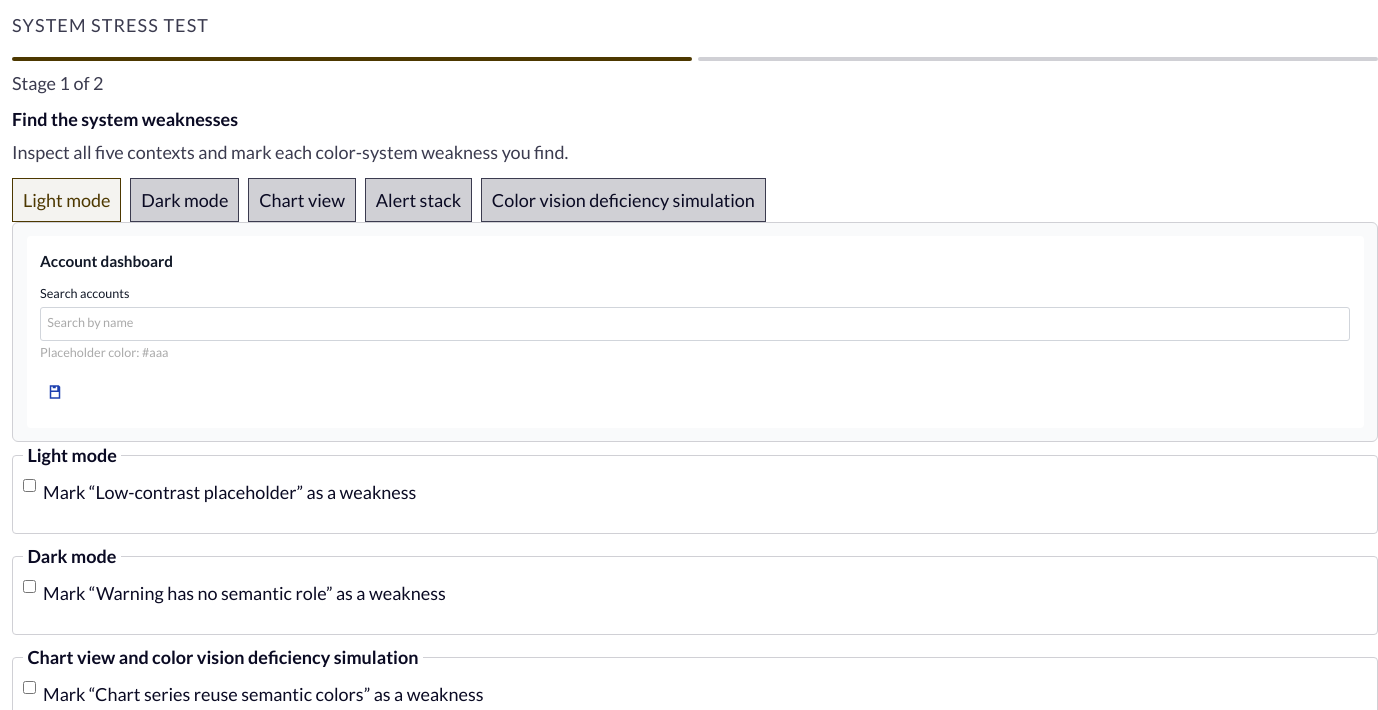
Scenario: SystemStressTestTool › provides observable previews for all five contexts
Expected: the text "Search by name" is shown, top-left (40, 307), bottom-right (1350, 341)
Expected: the text "Placeholder color: #aaa" has style "color: #aaa", top-left (40, 345), bottom-right (168, 360)
Click the button "Dark mode" at (185, 200), box top-left (130, 178), bottom-right (239, 222)
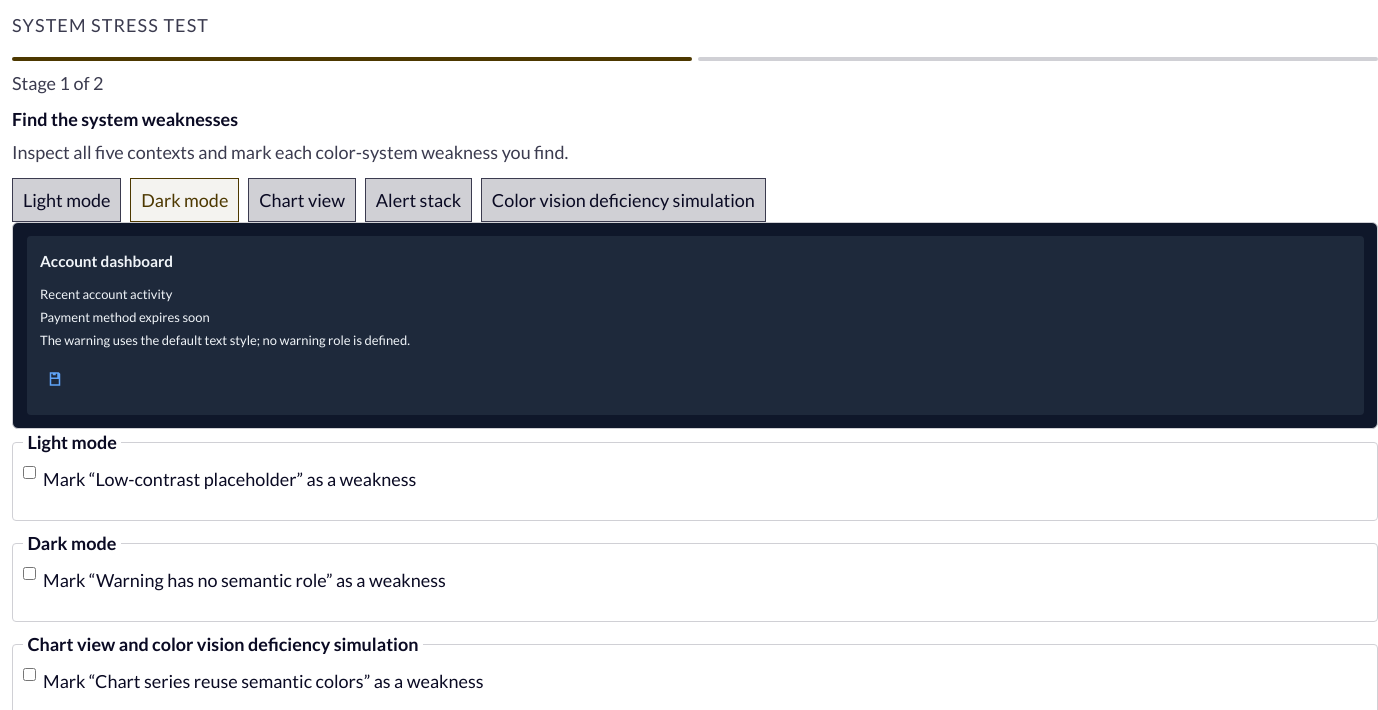
Expected: the text "no warning role is defined" is shown, top-left (40, 332), bottom-right (410, 348)
Click the button "Chart view" at (302, 200), box top-left (248, 178), bottom-right (356, 222)
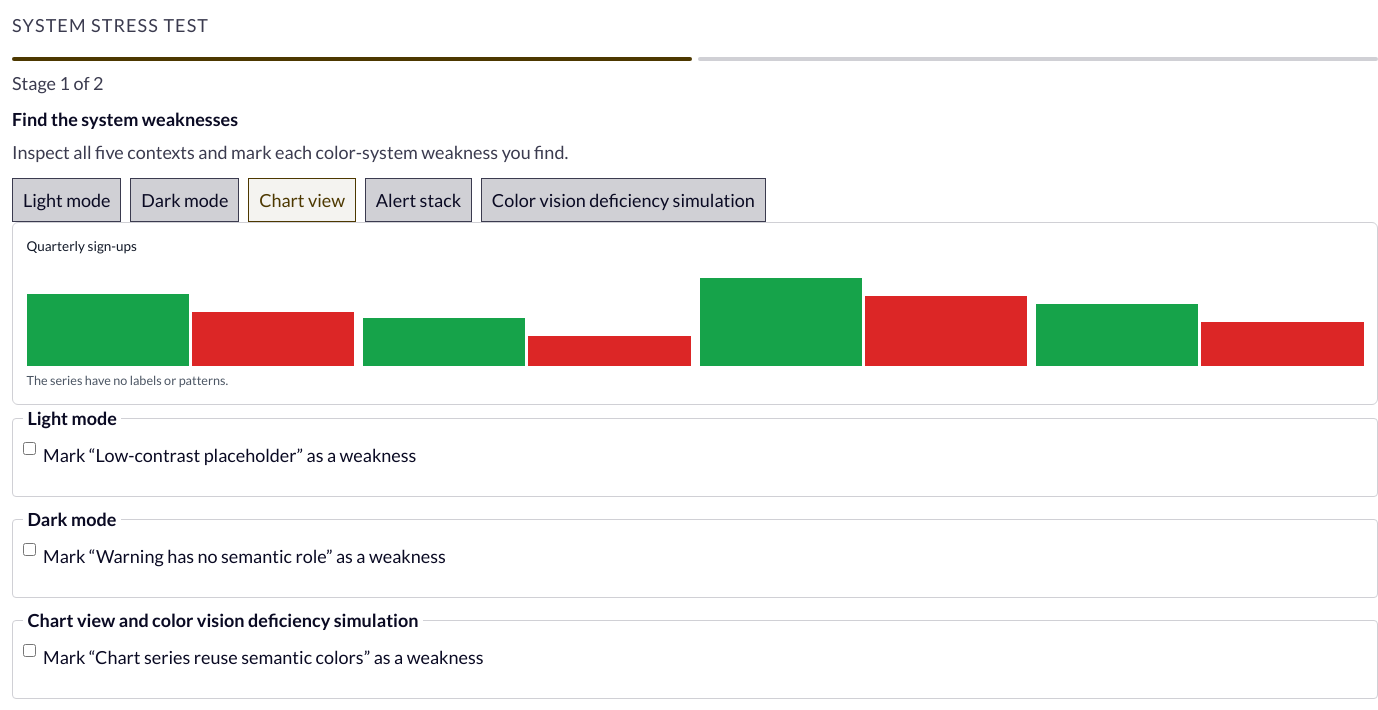
Expected: the element named "Chart with two color-only series" is shown, top-left (26, 236), bottom-right (1364, 391)
Click the button "Alert stack" at (418, 200), box top-left (365, 178), bottom-right (472, 222)
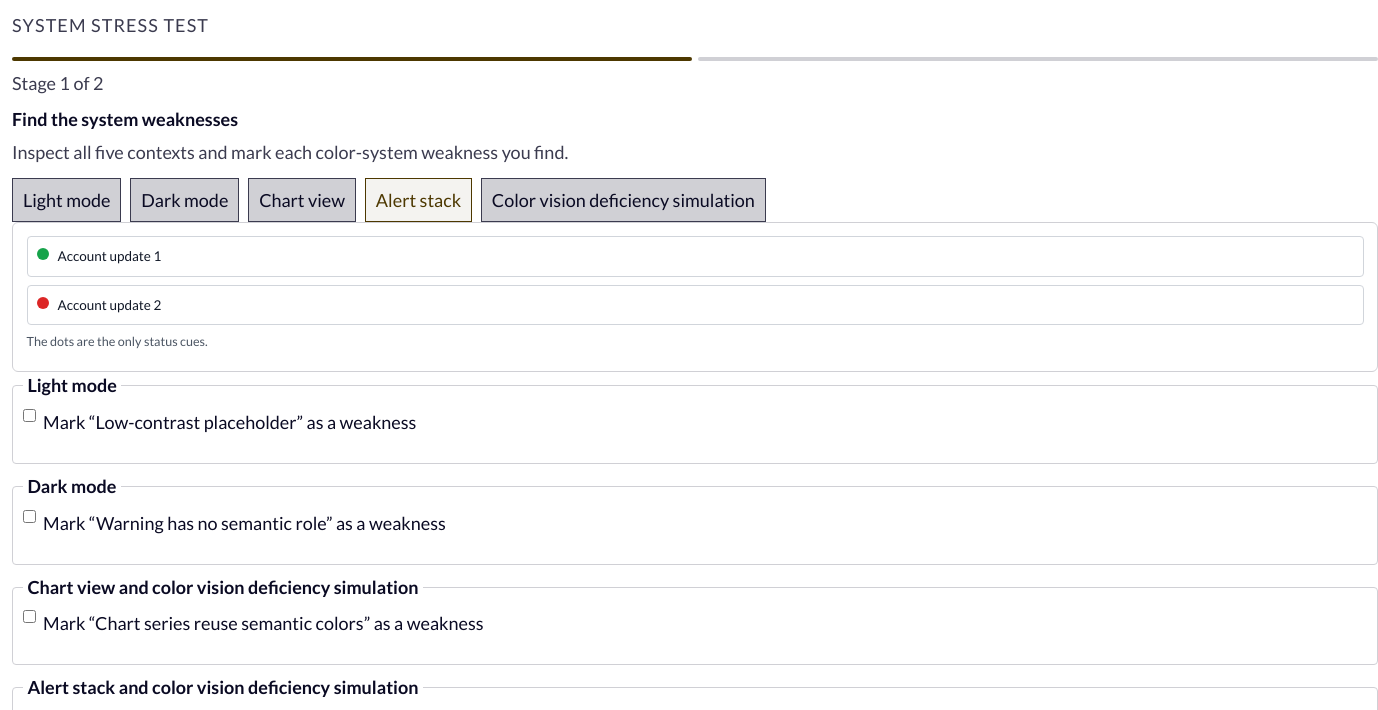
Expected: the element named "Color-only alert stack" is shown, top-left (26, 236), bottom-right (1364, 352)
Click the button "Color vision deficiency simulation" at (623, 200), box top-left (481, 178), bottom-right (766, 222)
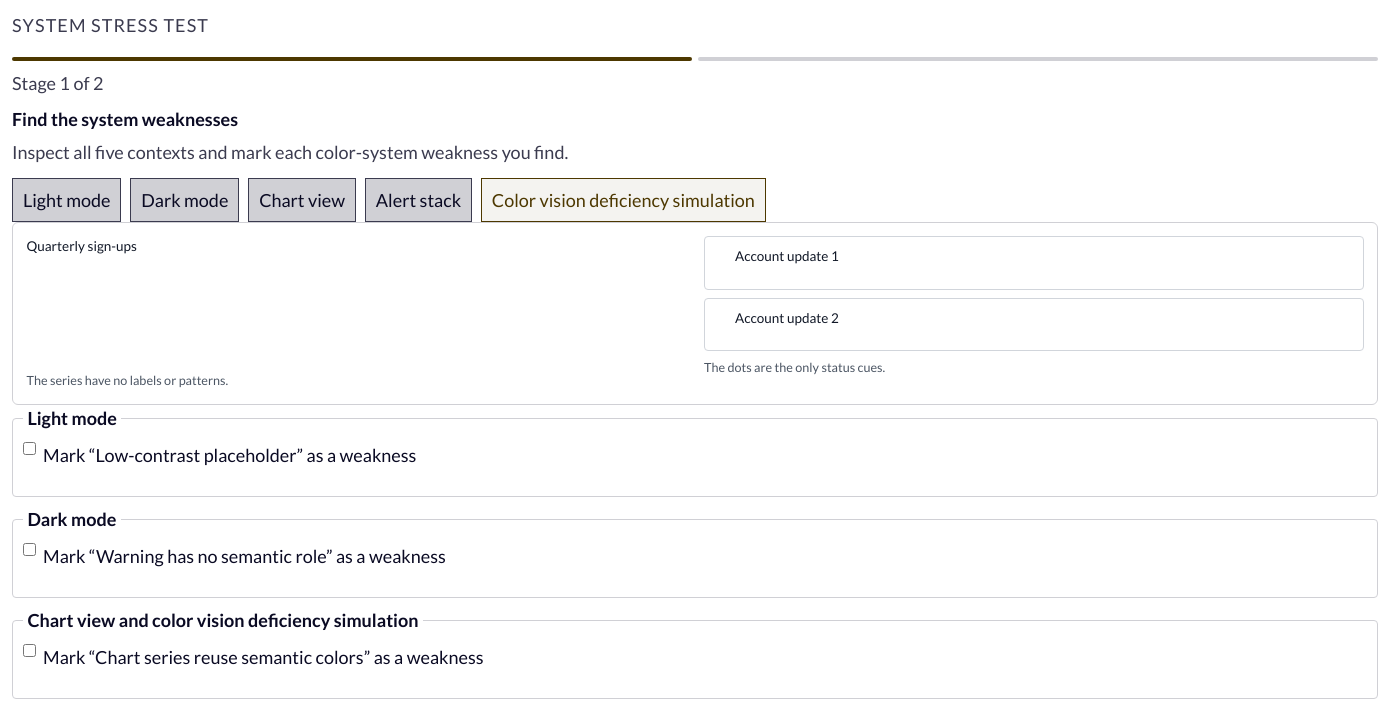
Expected: the element named "Chart under deuteranopia simulation" is shown, top-left (26, 238), bottom-right (228, 388)
Expected: the element named "Alerts under deuteranopia simulation" is shown, top-left (704, 236), bottom-right (1364, 391)
